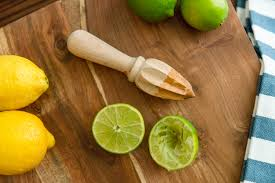Lemon: (3, 103, 62, 178), (1, 52, 50, 115)
